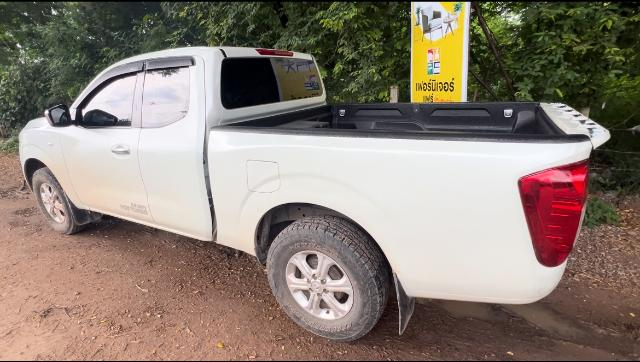pickup-truck: (16, 39, 612, 340)
